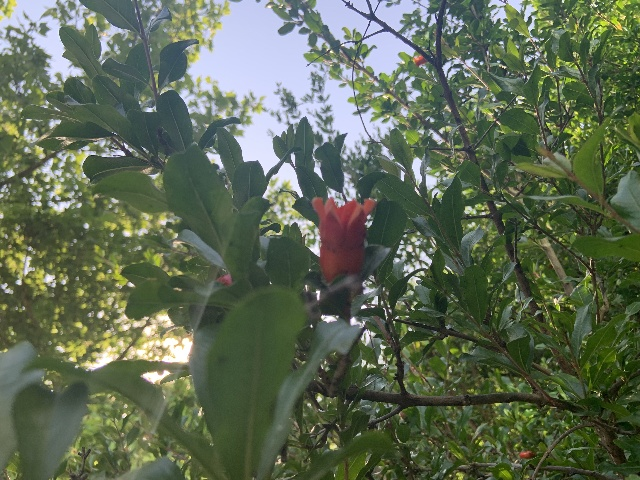bud: (215, 274, 232, 286), (519, 450, 536, 458)
flower: (312, 195, 374, 283), (413, 54, 426, 66)
